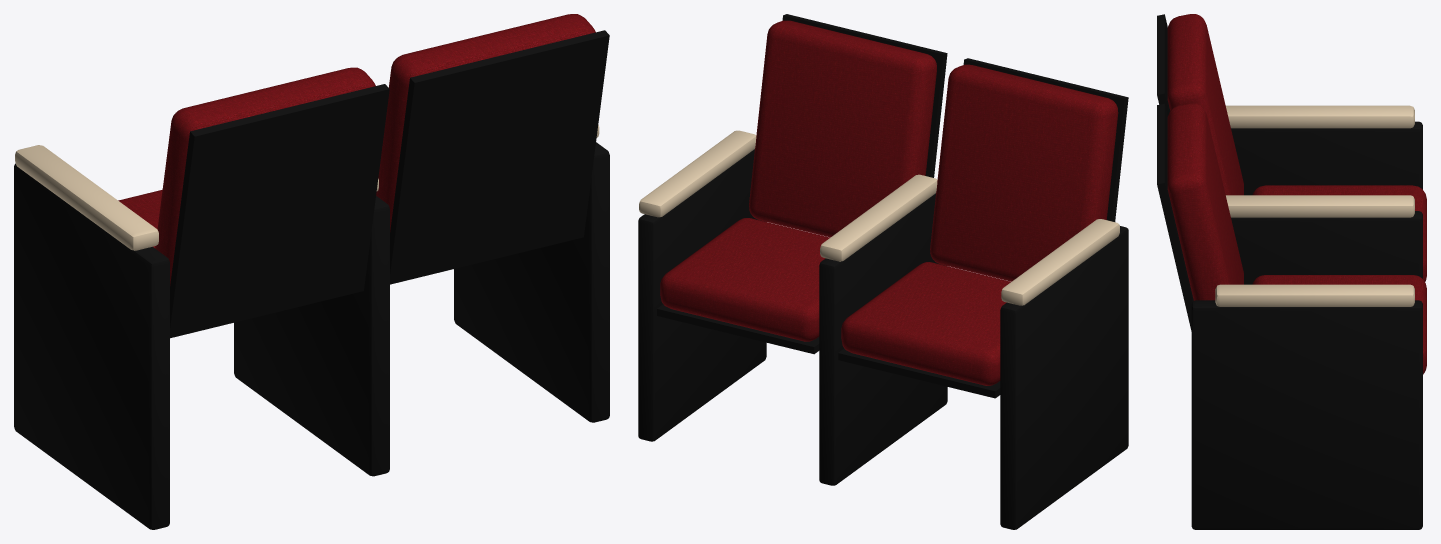
The model's file is theatre_seats_pair.gltf.
3 renders of one model, left to right at view 1: azimuth 30°, elevation 25°; view 2: azimuth 150°, elevation 25°; view 3: azimuth 270°, elevation 25°, orthographic. The views are drawn at different scales.
Visible parts, largest first — view 1: theatre_seats_pair; view 2: theatre_seats_pair; view 3: theatre_seats_pair.
Boxes of the visible parts, x1,y1,x2,y2 form: theatre_seats_pair: (14, 14, 609, 529); theatre_seats_pair: (638, 14, 1128, 529); theatre_seats_pair: (1157, 14, 1426, 529).
Size of the model in its own units: 1.13 by 0.9519 by 0.6766.
3 materials, 2 textured.
